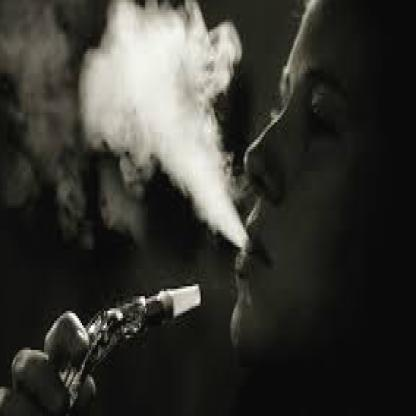smoke: (84, 0, 240, 228)
